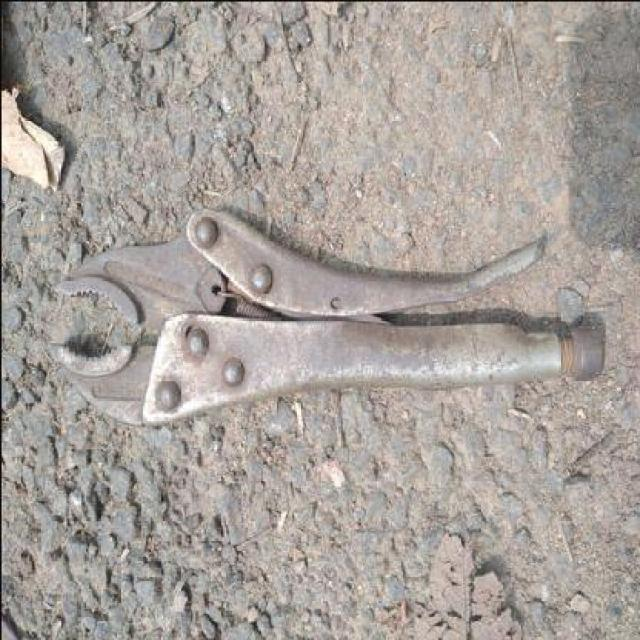pliers: (59, 205, 604, 430)
